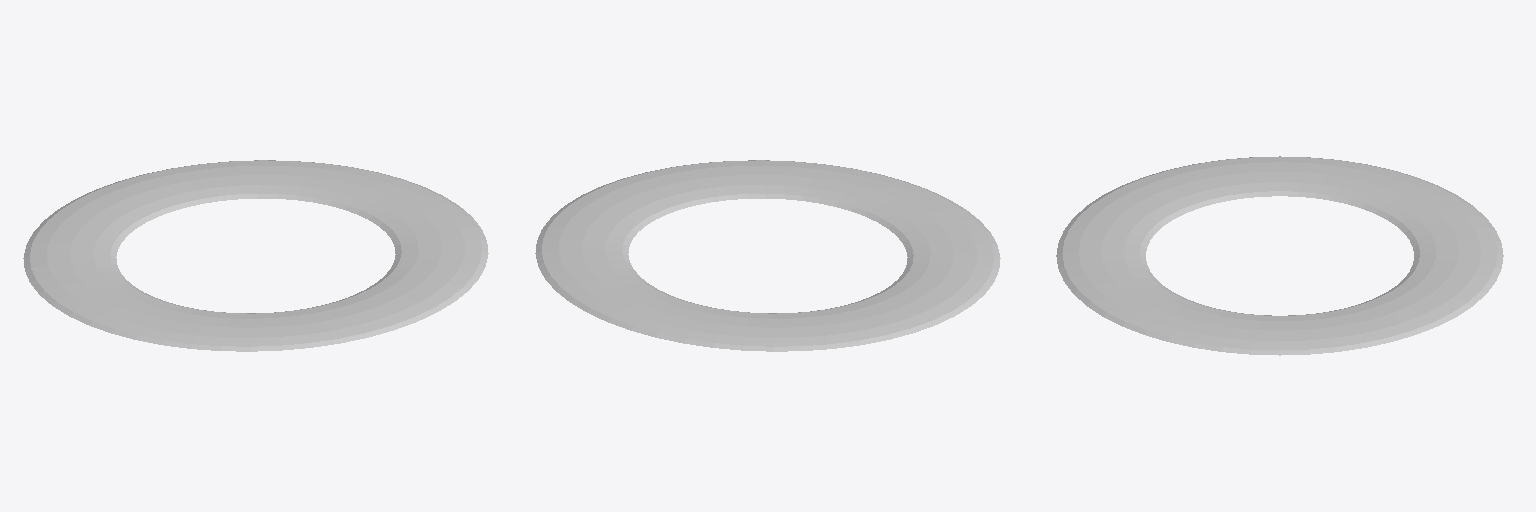
The model's file is saturnoAnillos.obj.
3 renders of one model, left to right at view 1: azimuth 30°, elevation 25°; view 2: azimuth 150°, elevation 25°; view 3: azimuth 270°, elevation 25°, orthographic.
Parts seen in each view (by area): view 1: Torus_Material.010_0; view 2: Torus_Material.010_0; view 3: Torus_Material.010_0.
Boxes of the visible parts, x1=… form: Torus_Material.010_0: x1=23, y1=160, x2=488, y2=351; Torus_Material.010_0: x1=535, y1=160, x2=1000, y2=351; Torus_Material.010_0: x1=1056, y1=156, x2=1503, y2=355.
Size of the model in its own units: 5.38 by 0.122 by 5.11.